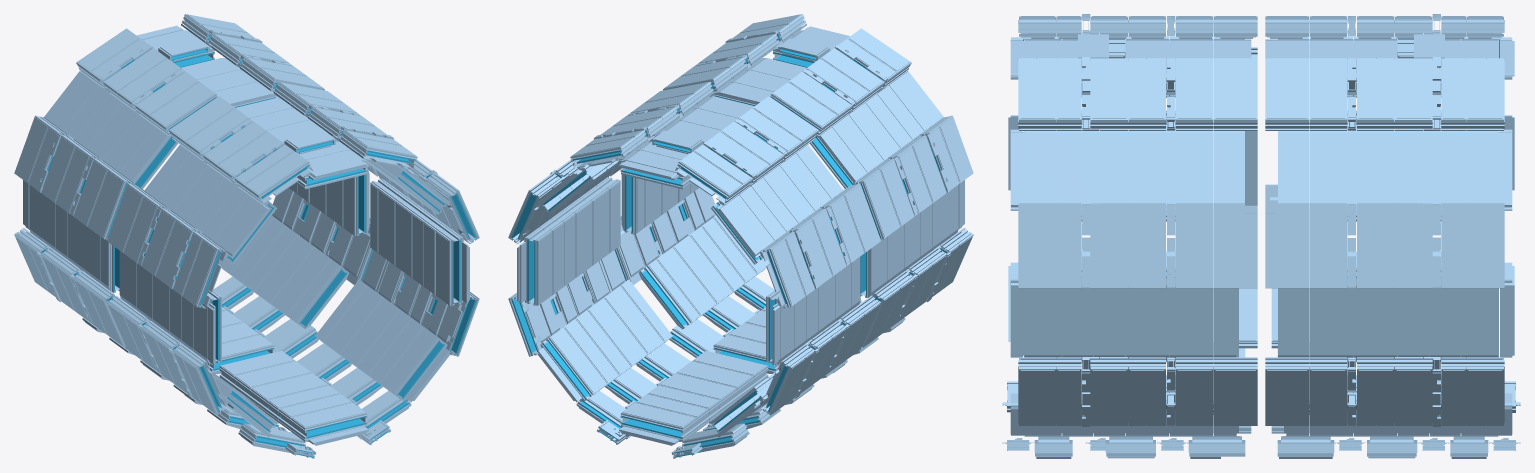
The model's file is muon-barrel-middle.glb.
3 views of the same model, side by side, from view 1: azimuth 30°, elevation 25°; view 2: azimuth 150°, elevation 25°; view 3: azimuth 270°, elevation 25° (orthographic). The views are drawn at different scales.
Visible parts, largest first — view 1: null; view 2: null; view 3: null.
Boxes of the visible parts, x1=… form: null: x1=14, y1=14, x2=479, y2=458; null: x1=508, y1=14, x2=973, y2=458; null: x1=1002, y1=14, x2=1520, y2=458.
Bounding box in the file's own units: 16.92 × 16.88 × 19.96.
